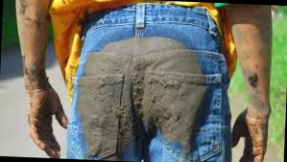earth: (85, 54, 194, 132), (109, 40, 183, 57), (94, 133, 126, 155)
